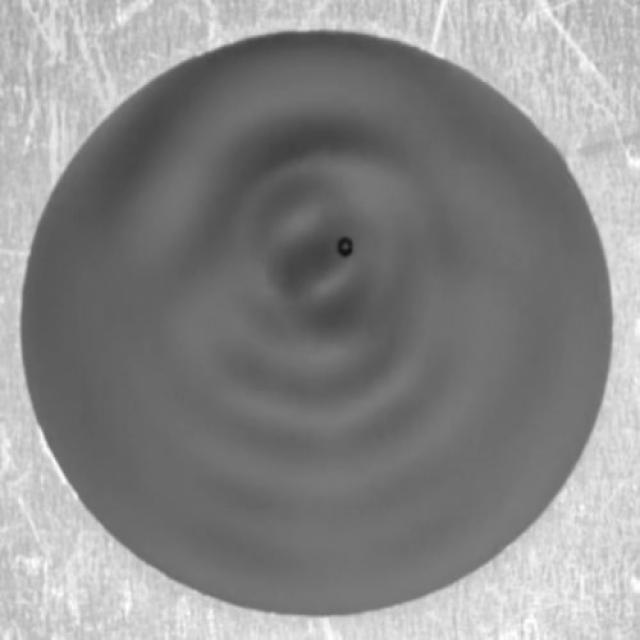droplet: (336, 234, 354, 260)
